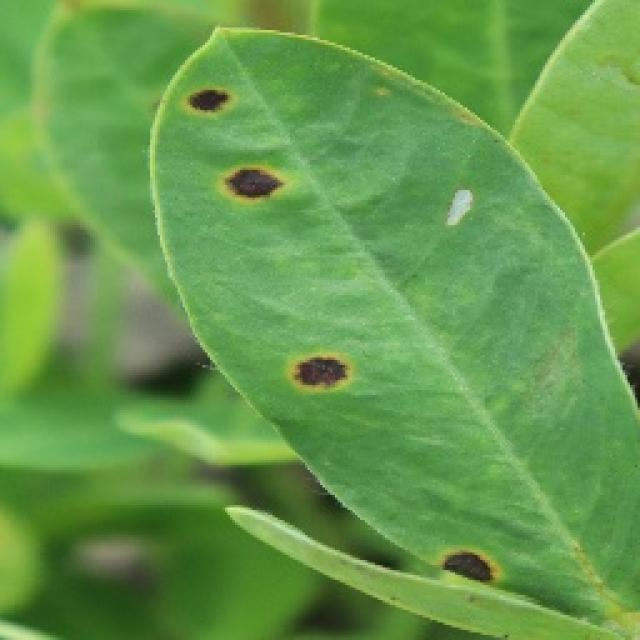Yellowish: (155, 53, 296, 239), (268, 328, 378, 427), (416, 170, 494, 286), (429, 544, 541, 616)
